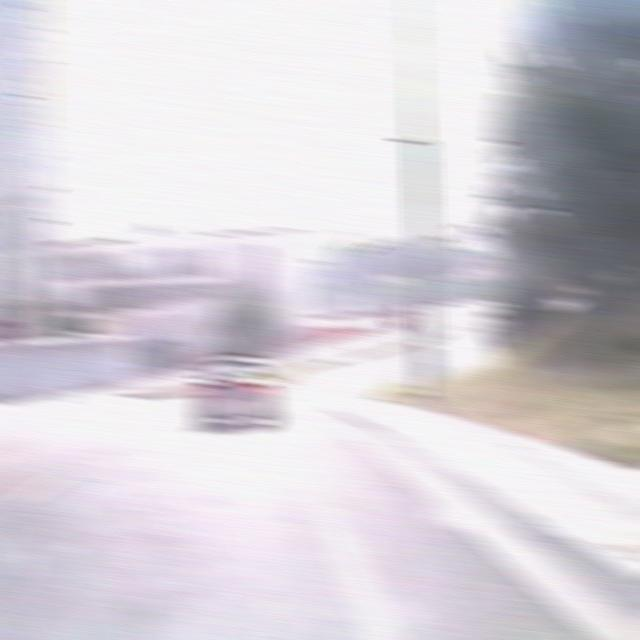stop: (384, 304, 414, 332)
